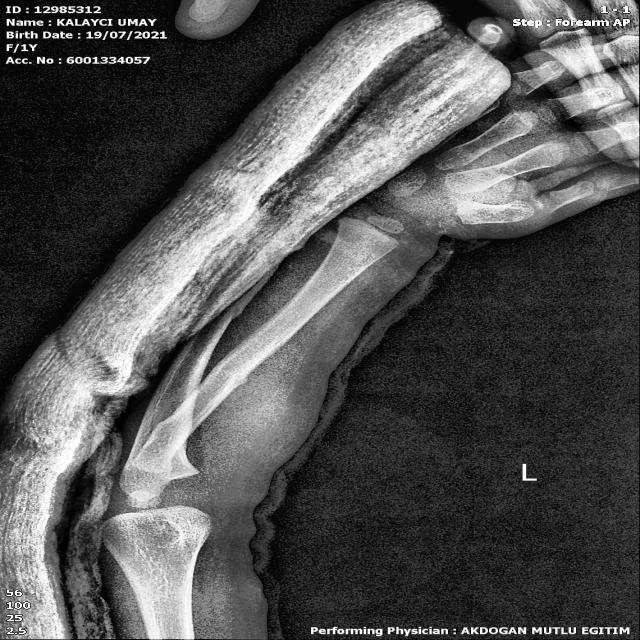Fracture: (167, 373, 212, 442)
